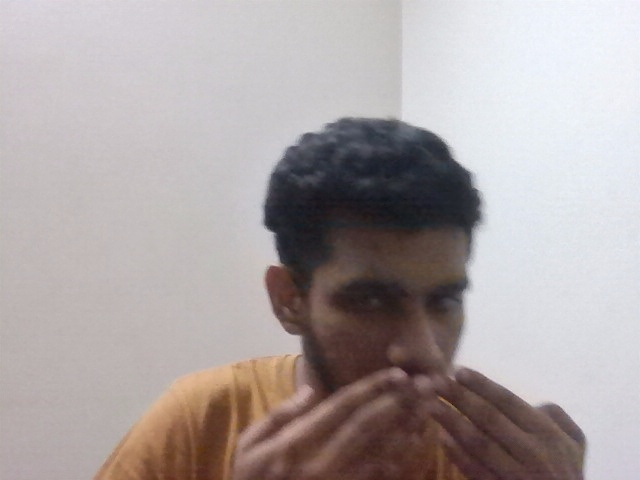thanks: (190, 365, 626, 470)
